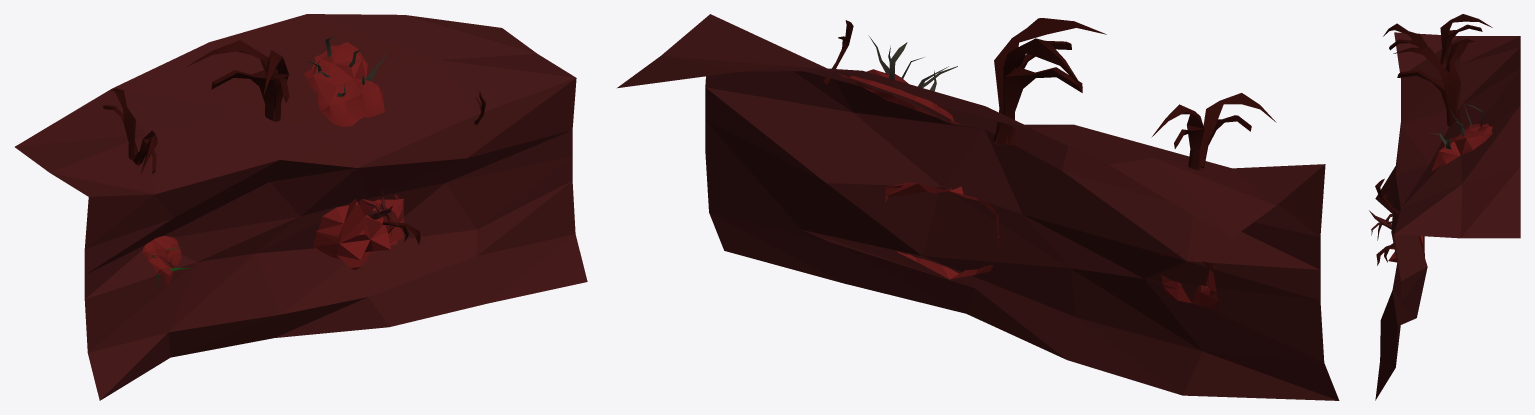
The model's file is Lava_wall_1.FBX.
The picture shows the model from 3 angles, left to right: view 1: azimuth 30°, elevation 25°; view 2: azimuth 150°, elevation 25°; view 3: azimuth 270°, elevation 25°; orthographic projection. The views are drawn at different scales.
Parts seen in each view (by area): view 1: Wall_1, LavaLevelWeeds1, Lava_rock_1, LavaLevelTree008, LavaLevelPlants2, LavaLevelTree2, LavaLevelTree010, LavaLevelTree009; view 2: Wall_1, LavaLevelTree008, LavaLevelTree2, LavaLevelWeeds1, Lava_rock_1, LavaLevelTree009, LavaLevelPlants2, LavaLevelTree010; view 3: Wall_1, LavaLevelWeeds1, LavaLevelTree2, LavaLevelTree010, LavaLevelTree008, LavaLevelTree009, Lava_branch_3, LavaLevelTree1.
Part boxes in pixels (x1,y1,x2,y2): Wall_1: (15, 14, 587, 400); LavaLevelWeeds1: (304, 37, 387, 126); Lava_rock_1: (314, 194, 403, 269); LavaLevelTree008: (186, 40, 278, 121); LavaLevelPlants2: (142, 236, 192, 299); LavaLevelTree2: (263, 50, 289, 121); LavaLevelTree010: (103, 88, 137, 159); LavaLevelTree009: (131, 130, 157, 174); Wall_1: (617, 14, 1339, 400); LavaLevelTree008: (992, 38, 1082, 144); LavaLevelTree2: (993, 18, 1106, 144); LavaLevelWeeds1: (838, 35, 962, 125); Lava_rock_1: (885, 182, 999, 279); LavaLevelTree009: (1199, 93, 1276, 168); LavaLevelPlants2: (1159, 251, 1219, 310); LavaLevelTree010: (1151, 104, 1204, 170); Wall_1: (1375, 32, 1520, 400); LavaLevelWeeds1: (1430, 103, 1492, 171); LavaLevelTree2: (1393, 47, 1457, 126); LavaLevelTree010: (1440, 14, 1492, 65); LavaLevelTree008: (1445, 38, 1474, 117); LavaLevelTree009: (1383, 23, 1440, 66); Lava_branch_3: (1369, 210, 1392, 240); LavaLevelTree1: (1375, 178, 1399, 214).
Size of the model in its own units: 4000 by 2176 by 1271.
